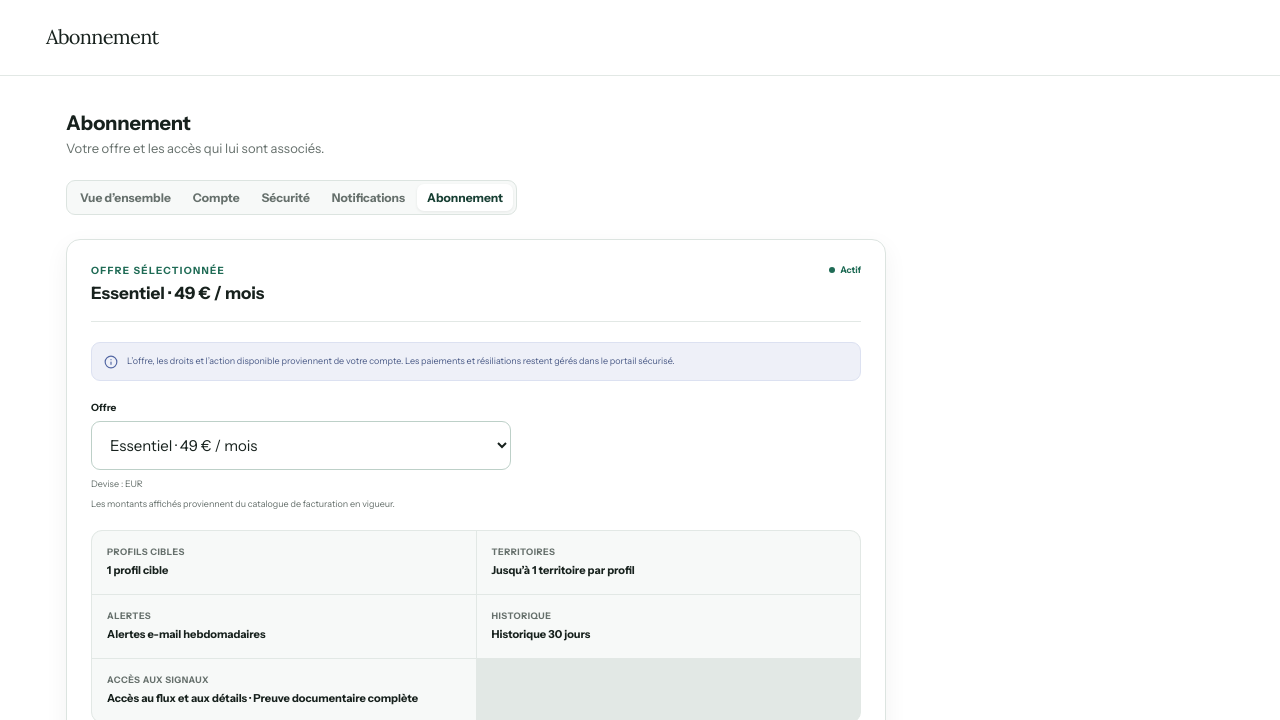
Test case: aucune résiliation programmée › un compte Découverte n’en voit pas davantage
Select "Pro · 99 € / mois · Recommandé" in the dropdown labelled "Offre". click: (301, 445)
box: [91,421,511,470]
(page scrolled)
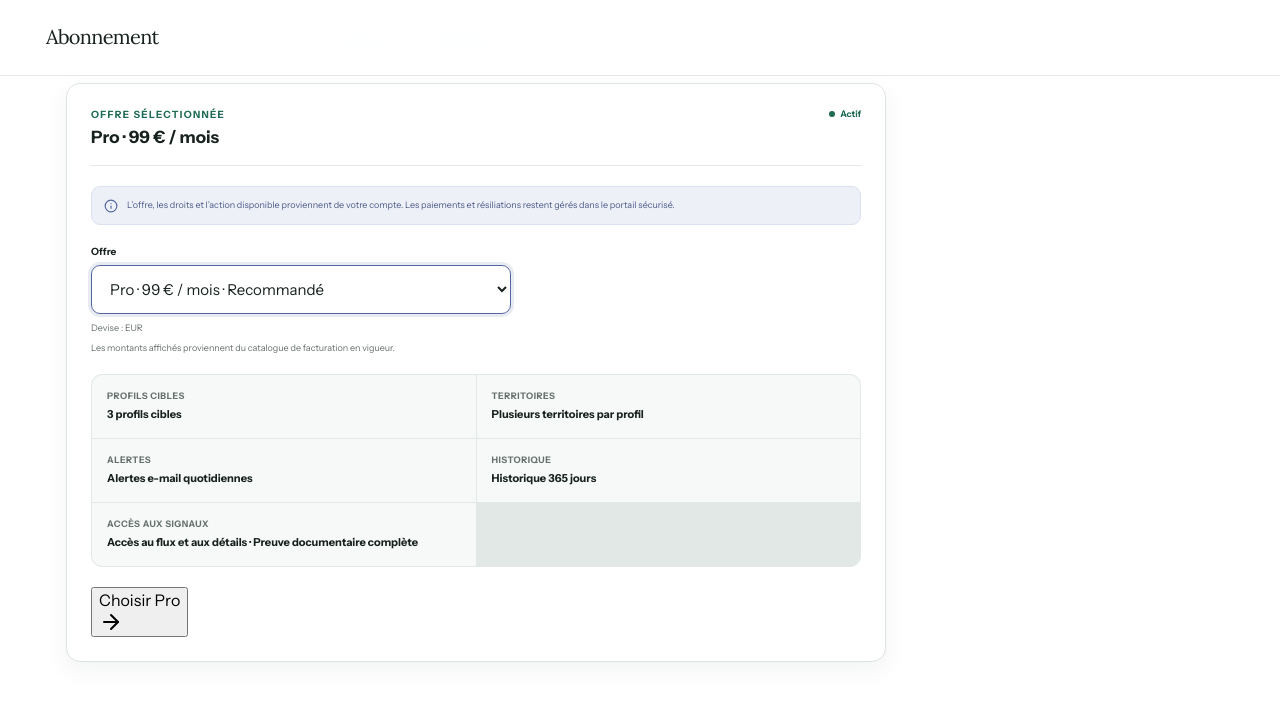
Expected: the button "Choisir Pro" is shown, [91,587,188,637]
